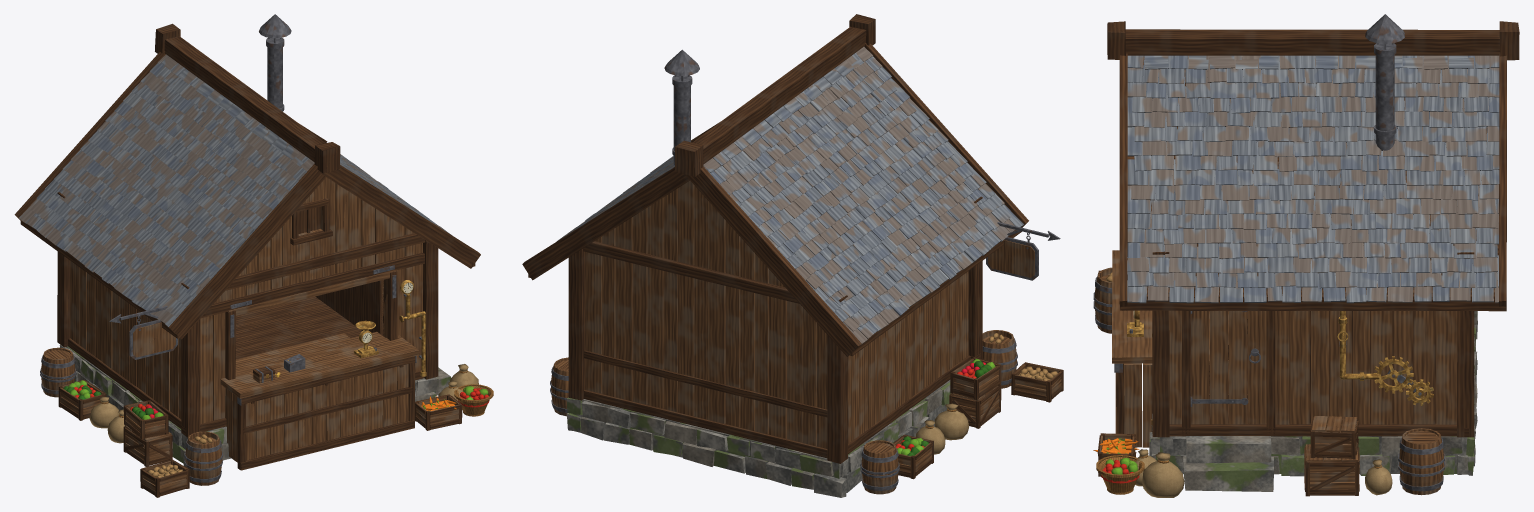
File: magazin_better.glb
3 renders of one model, left to right at view 1: azimuth 30°, elevation 25°; view 2: azimuth 150°, elevation 25°; view 3: azimuth 270°, elevation 25°, orthographic. The views are drawn at different scales.
Visible parts, largest first — view 1: Shop_Roof, Shop_Walls, Shop_Trading_Counter, Shop_Roof_Beams, Shop_Foundation, Shop_Crates, Shop_Windows, Shop_Barrels, Shop_Merchandise, Shop_Chimney, Shop_Sacks, Shop_Metal_Details (+5 smaller); view 2: Shop_Walls, Shop_Roof, Shop_Roof_Beams, Shop_Foundation, Shop_Crates, Shop_Barrels, Shop_Chimney, Shop_Hanging_Sign, Shop_Sacks, Shop_Merchandise; view 3: Shop_Roof, Shop_Walls, Shop_Roof_Beams, Shop_Foundation, Shop_Door, Shop_Trading_Counter, Shop_Crates, Shop_Barrels, Shop_Chimney, Shop_Sacks, Shop_Metal_Details, Shop_Merchandise (+1 smaller).
Part boxes in pixels (left/top/right/bottom): Shop_Roof: left=19, top=54, right=451, bottom=326; Shop_Walls: left=57, top=177, right=438, bottom=437; Shop_Trading_Counter: left=220, top=331, right=419, bottom=470; Shop_Roof_Beams: left=14, top=23, right=480, bottom=339; Shop_Foundation: left=59, top=296, right=450, bottom=466; Shop_Crates: left=58, top=379, right=462, bottom=497; Shop_Windows: left=225, top=198, right=397, bottom=380; Shop_Barrels: left=40, top=347, right=223, bottom=485; Shop_Merchandise: left=63, top=380, right=489, bottom=477; Shop_Chimney: left=259, top=14, right=291, bottom=111; Shop_Sacks: left=89, top=364, right=478, bottom=443; Shop_Metal_Details: left=109, top=265, right=426, bottom=405; Shop_Walls: left=568, top=180, right=982, bottom=463; Shop_Roof: left=557, top=47, right=1023, bottom=344; Shop_Roof_Beams: left=522, top=14, right=1028, bottom=356; Shop_Foundation: left=566, top=380, right=950, bottom=497; Shop_Crates: left=893, top=357, right=1063, bottom=479; Shop_Barrels: left=550, top=330, right=1017, bottom=494; Shop_Chimney: left=664, top=49, right=699, bottom=165; Shop_Hanging_Sign: left=986, top=232, right=1038, bottom=280; Shop_Sacks: left=915, top=403, right=968, bottom=454; Shop_Merchandise: left=895, top=333, right=1057, bottom=456; Shop_Roof: left=1127, top=55, right=1499, bottom=303; Shop_Walls: left=1152, top=251, right=1474, bottom=437; Shop_Roof_Beams: left=1107, top=21, right=1519, bottom=311; Shop_Foundation: left=1149, top=311, right=1477, bottom=491; Shop_Door: left=1190, top=311, right=1266, bottom=424; Shop_Trading_Counter: left=1112, top=250, right=1152, bottom=447; Shop_Crates: left=1097, top=270, right=1359, bottom=496; Shop_Barrels: left=1093, top=267, right=1444, bottom=495; Shop_Chimney: left=1365, top=14, right=1404, bottom=150; Shop_Sacks: left=1135, top=449, right=1392, bottom=497; Shop_Metal_Details: left=1114, top=311, right=1433, bottom=425; Shop_Merchandise: left=1093, top=272, right=1139, bottom=483.
Bounding box in the file's own units: 6.19 × 5.49 × 5.05.
Materials: 9 (9 with a texture image).
